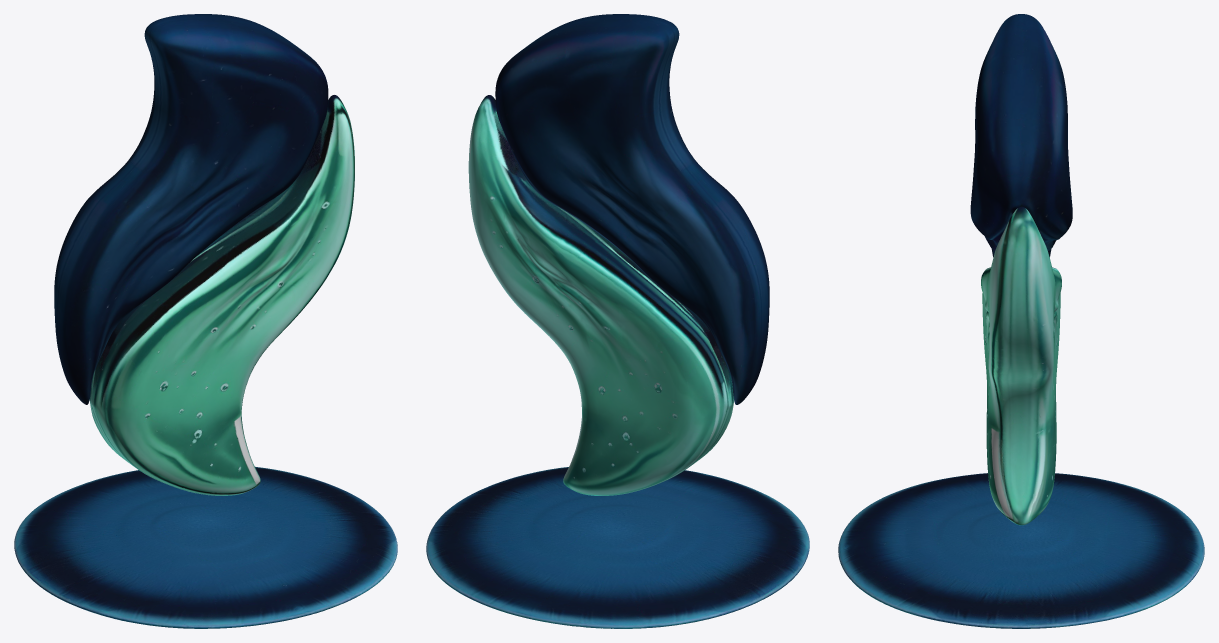
File: opt_Glass_Wave_Duo_0508010604.glb
The picture shows the model from 3 angles, left to right: view 1: azimuth 30°, elevation 25°; view 2: azimuth 150°, elevation 25°; view 3: azimuth 270°, elevation 25°; orthographic projection. The views are drawn at different scales.
Bounding box in the file's own units: 1.22 × 1.9 × 1.22.
1 material, 1 textured.
